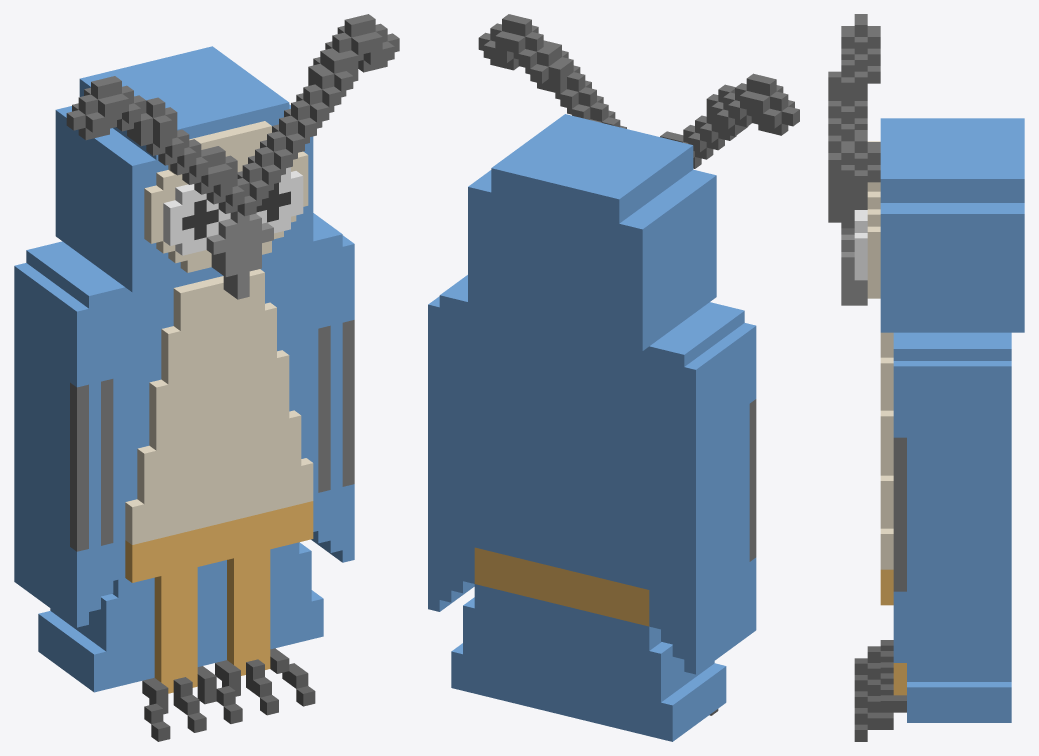
Rendered from Owl.fbx.
The picture shows the model from 3 angles, left to right: view 1: azimuth 30°, elevation 25°; view 2: azimuth 150°, elevation 25°; view 3: azimuth 270°, elevation 25°; orthographic projection. The views are drawn at different scales.
Parts seen in each view (by area): view 1: Owl; view 2: Owl; view 3: Owl.
Boxes of the visible parts, x1,y1,x2,y2 form: Owl: (14, 14, 399, 741); Owl: (428, 14, 799, 741); Owl: (828, 14, 1024, 741).
Bounding box in the file's own units: 1.08 × 2.12 × 0.6.
